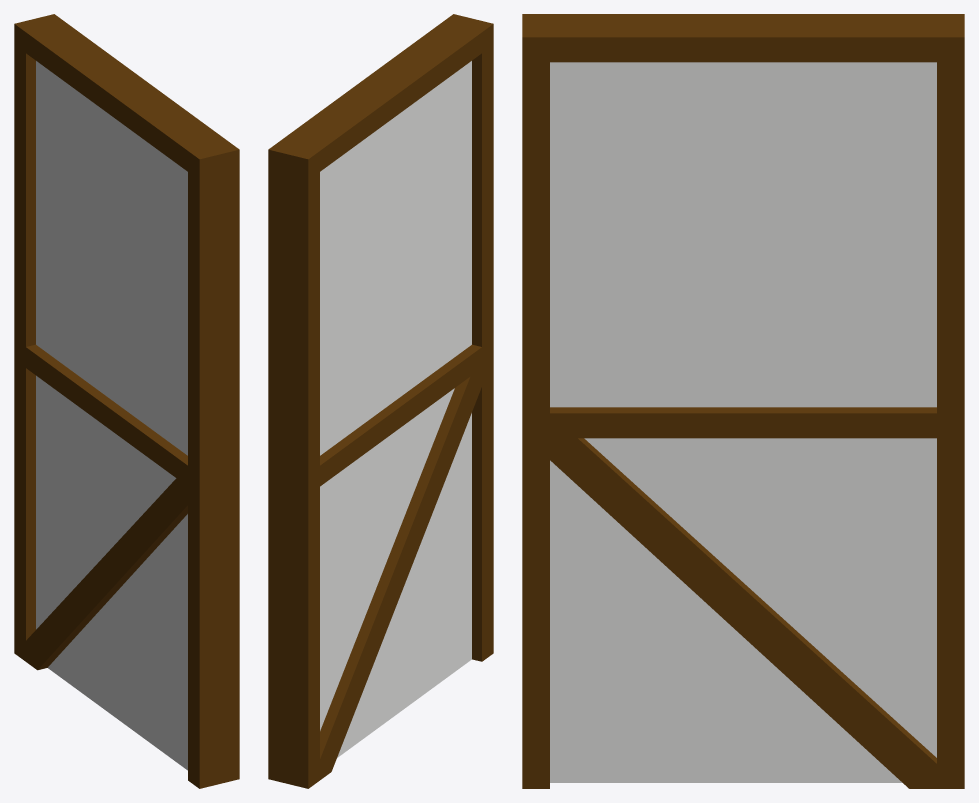
3 views of the same model, side by side, from view 1: azimuth 30°, elevation 25°; view 2: azimuth 150°, elevation 25°; view 3: azimuth 270°, elevation 25° (orthographic). The views are drawn at different scales.
Bounding box in the file's own units: 16 × 240 × 128.
Materials: 1 (1 with a texture image).
